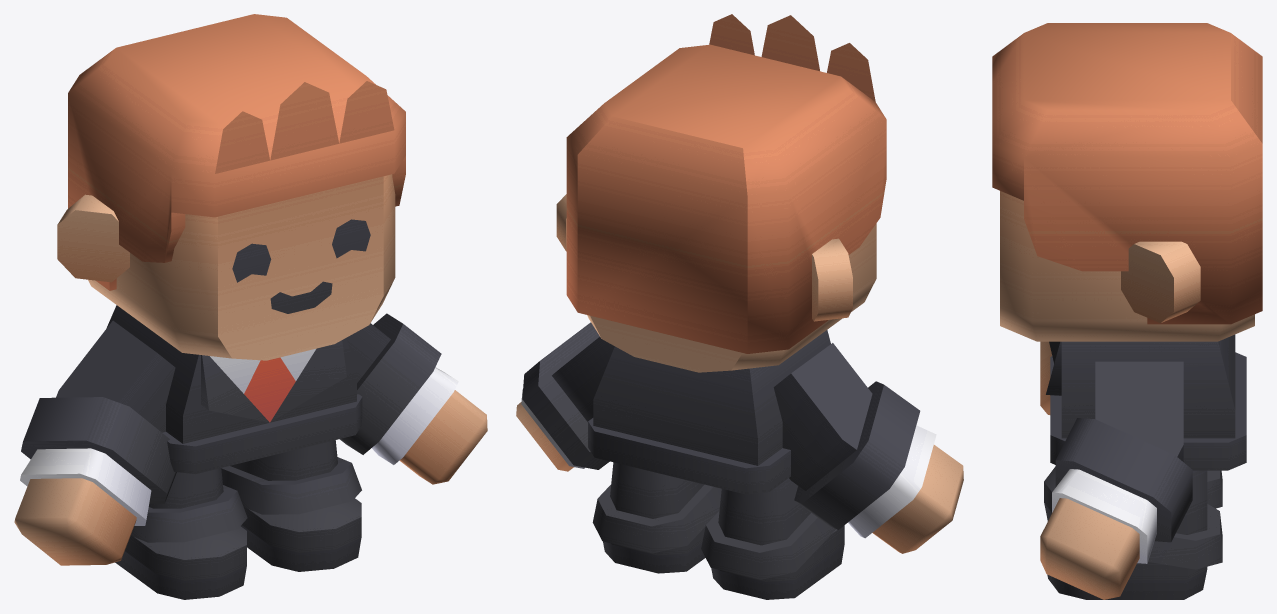
Rendered from person-2.glb.
3 views of the same model, side by side, from view 1: azimuth 30°, elevation 25°; view 2: azimuth 150°, elevation 25°; view 3: azimuth 270°, elevation 25° (orthographic). The views are drawn at different scales.
Visible parts, largest first — view 1: body-mesh; view 2: body-mesh; view 3: body-mesh.
Boxes of the visible parts, box(x1,y1,x2,y2) form: body-mesh: box(14, 14, 487, 599); body-mesh: box(516, 14, 963, 599); body-mesh: box(992, 23, 1262, 599).
Size of the model in its own units: 1.53 by 1.67 by 0.7851.
1 material, 1 textured.
